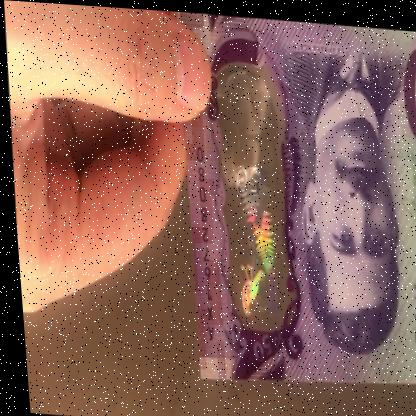50F: (221, 93, 283, 321)
